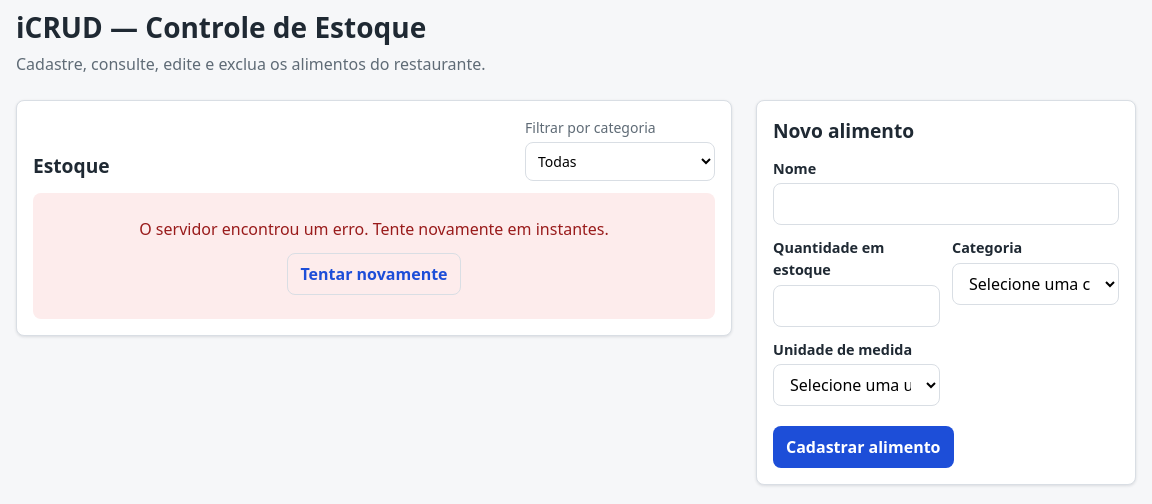
Test: US2 — list and filter › shows a retry banner on failure, keeps the filter and recovers
Expected: the text "O servidor encontrou um erro. Tente novamente em instantes." is shown, [139,218,609,240]
Select "Bebidas" in the dropdown labelled "Filtrar por categoria". click: (620, 162)
box: [525,142,715,181]
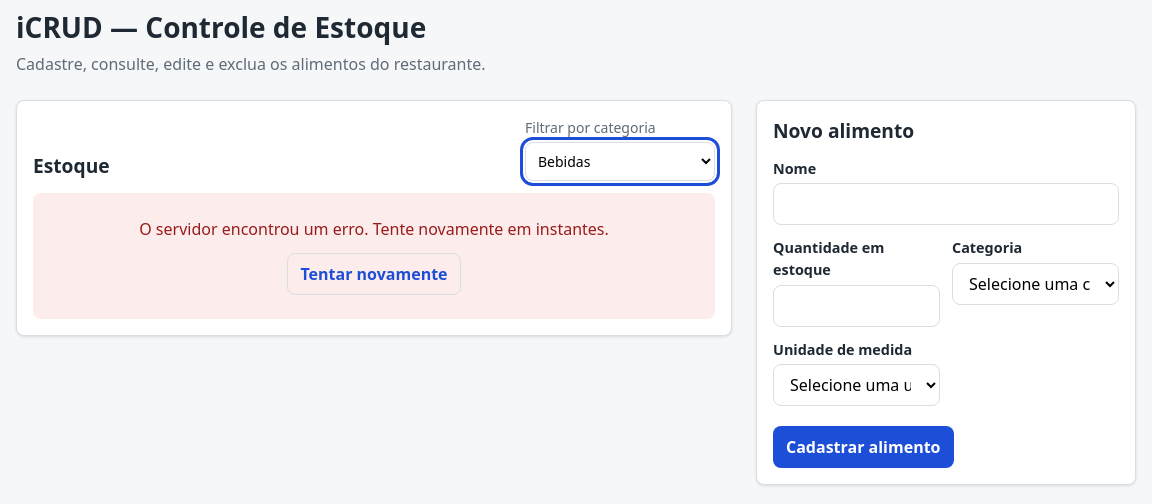
Click the button "Tentar novamente". click: click(374, 274)
box: [288,253,461,295]
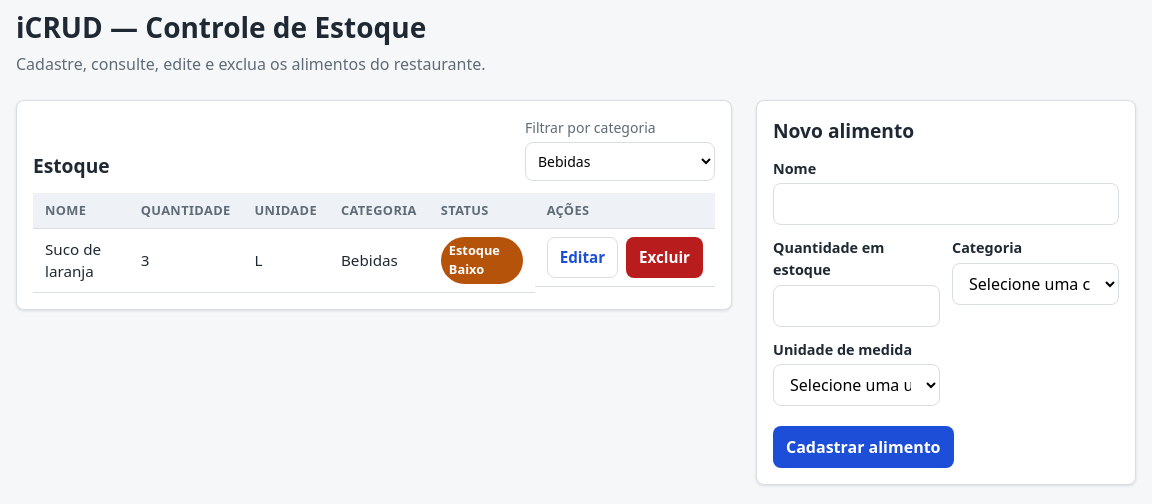
Now the text "Suco de laranja" is shown, box [33,229,129,292]
